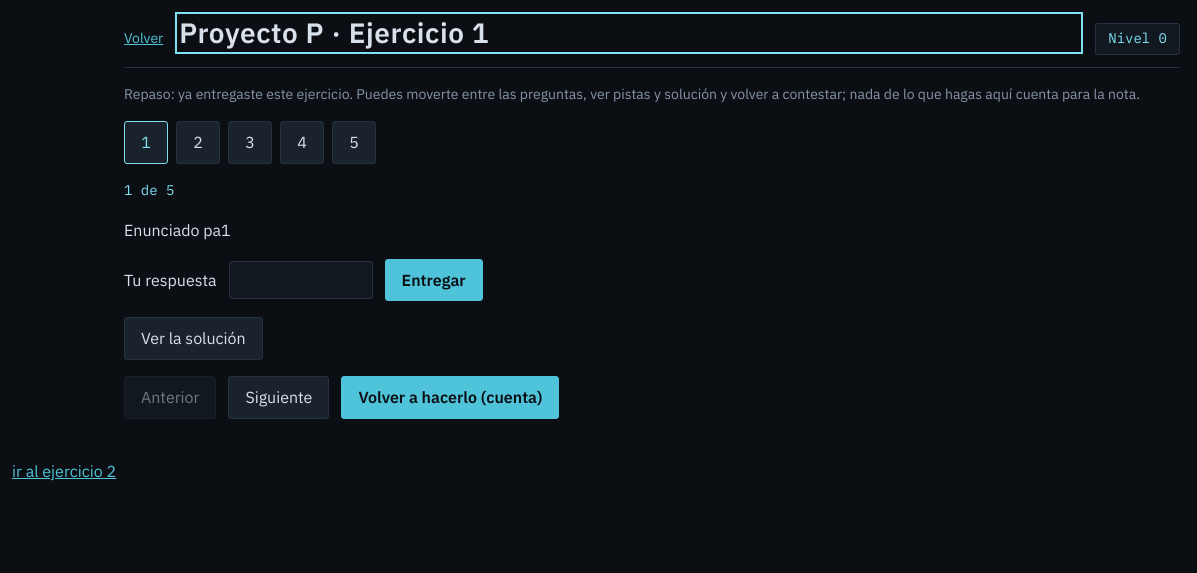
Test: Repaso de un ejercicio ya entregado › contestar en el repaso dice si es correcto, pero no registra intentos ni cambia la marca
Expected: the heading "Proyecto P · Ejercicio 1" is shown, [179,14,489,51]
Expected: the button "Entregar" is enabled, [385,259,483,302]
Step 1. Type "9" into the field labelled "Tu respuesta" → (301, 280), box [229,261,373,299]
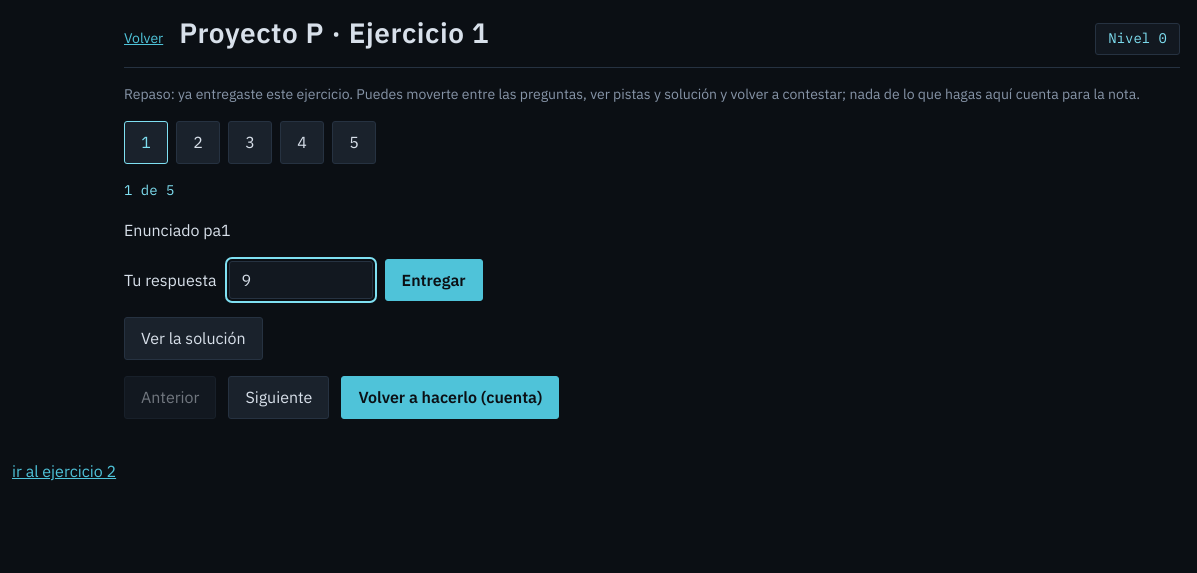
Step 2. Click the button "Entregar" → (434, 280), box [385,259,483,302]
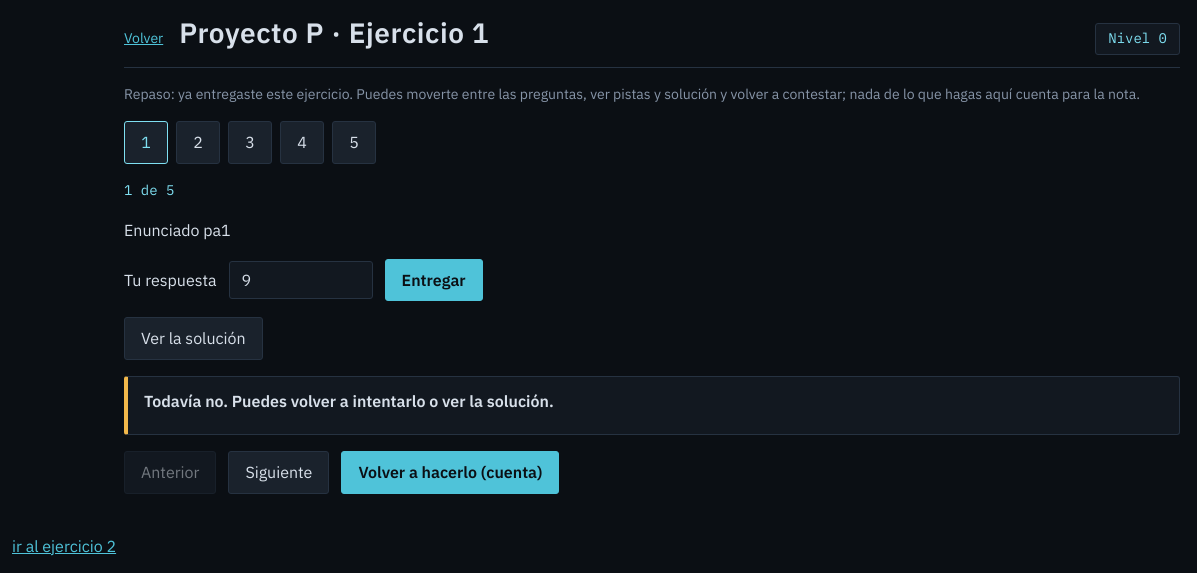
Now the text "Todavía no. Puedes volver a intentarlo o ver la solución." is shown, box [144,391,554,411]
Step 3. Replace the text in the field labelled "Tu respuesta" with "5" → (301, 280), box [229,261,373,299]
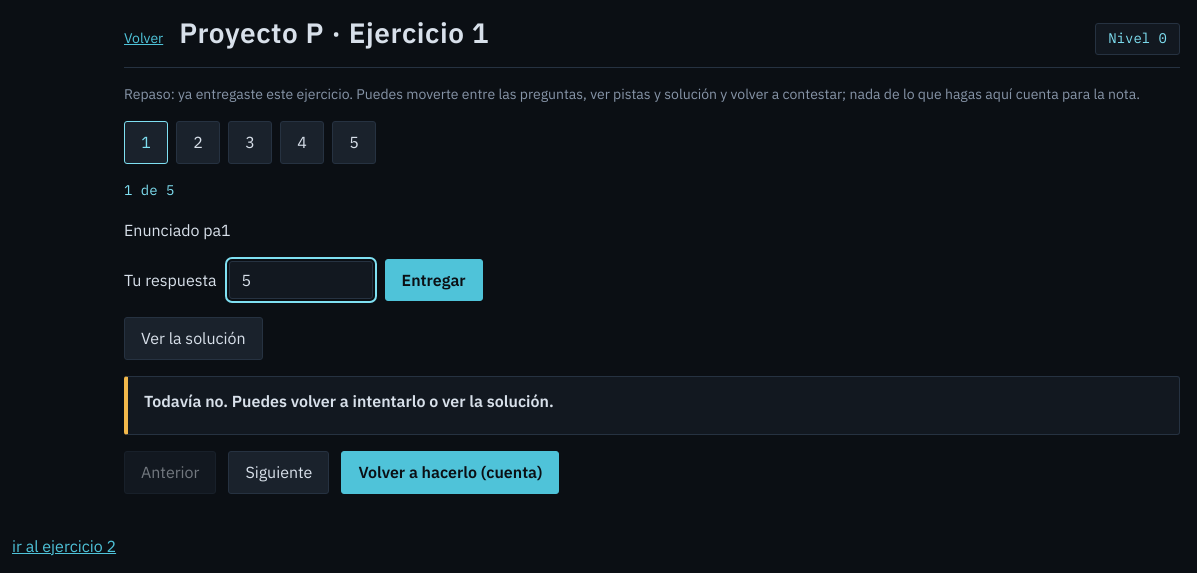
Step 4. Click the button "Entregar" → (434, 280), box [385,259,483,302]
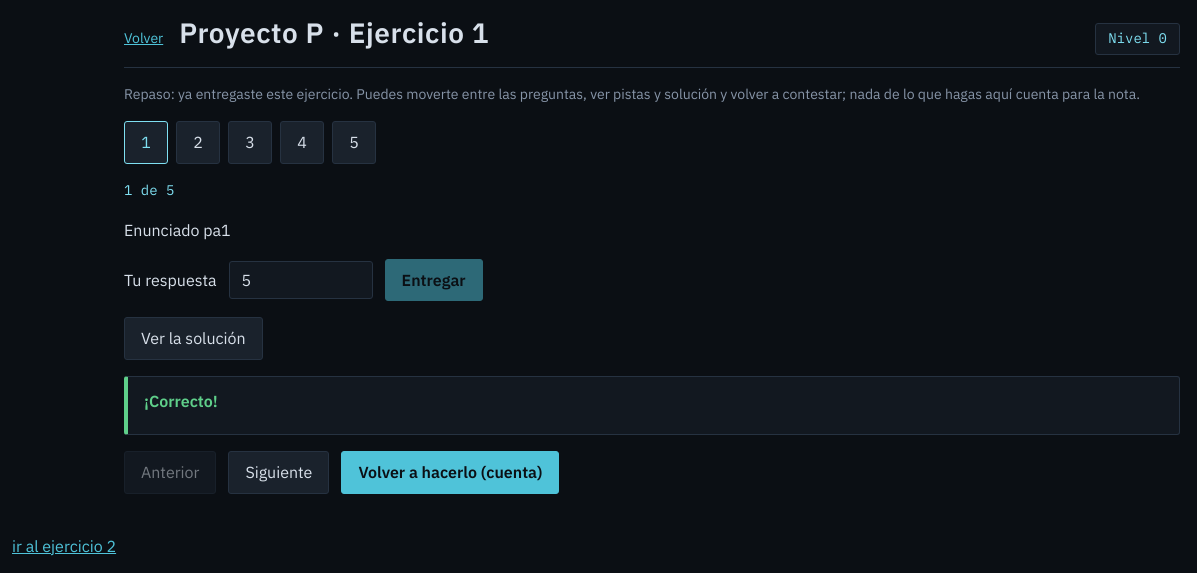
Now the text "¡Correcto!" is shown, box [144,391,218,411]
